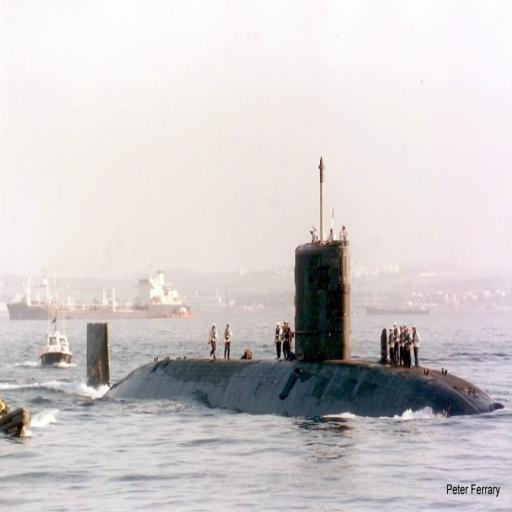submarine: (85, 239, 505, 421)
